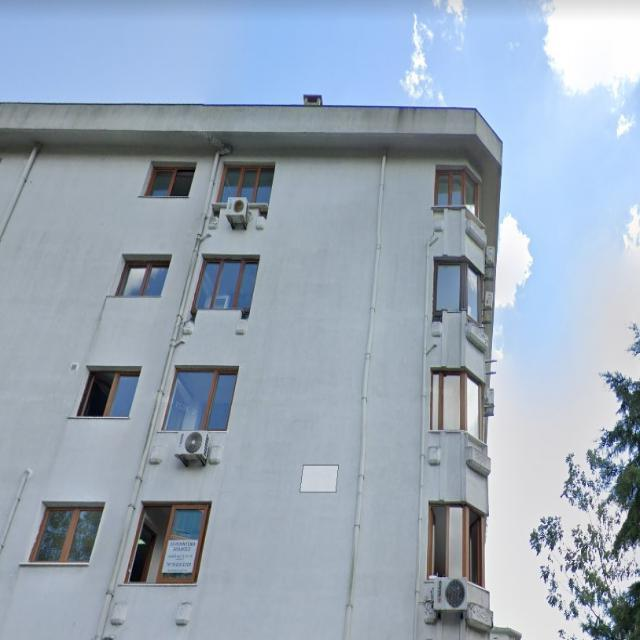Building: (0, 102, 505, 639)
